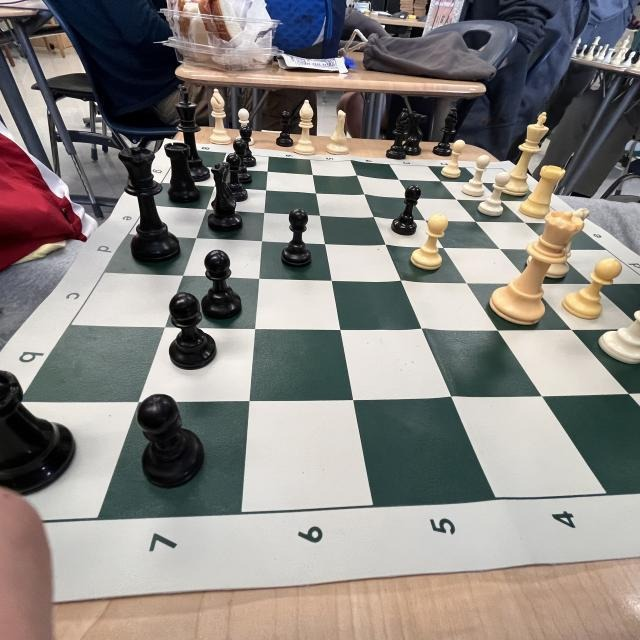black-bishop: (385, 109, 411, 159), (432, 108, 458, 156)
black-king: (170, 76, 209, 202)
black-knight: (205, 162, 242, 233), (402, 110, 428, 154)
black-pawn: (137, 385, 202, 494), (168, 283, 212, 376), (209, 246, 243, 326), (283, 205, 315, 275), (390, 184, 422, 235), (221, 153, 251, 203), (230, 140, 253, 184), (274, 109, 294, 147), (234, 127, 254, 161)
black-queen: (123, 135, 175, 273)
black-rook: (162, 141, 204, 207)
white-bishop: (209, 87, 231, 144), (293, 100, 315, 156)
white-king: (497, 112, 555, 196)
white-knight: (326, 109, 350, 155)
white-pawn: (559, 256, 625, 320), (409, 200, 447, 284), (477, 172, 510, 216), (461, 152, 491, 196), (441, 139, 463, 179), (235, 107, 255, 145)
white-queen: (490, 210, 580, 326)
white-rook: (517, 164, 567, 216)
